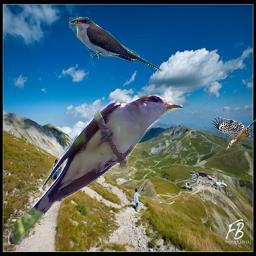Cuckoo: (8, 94, 183, 245), (69, 17, 162, 73)
Woodpecker: (210, 116, 256, 150)
